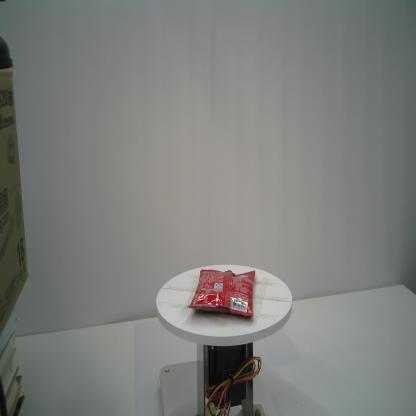Instant Drink: (187, 268, 256, 317)
